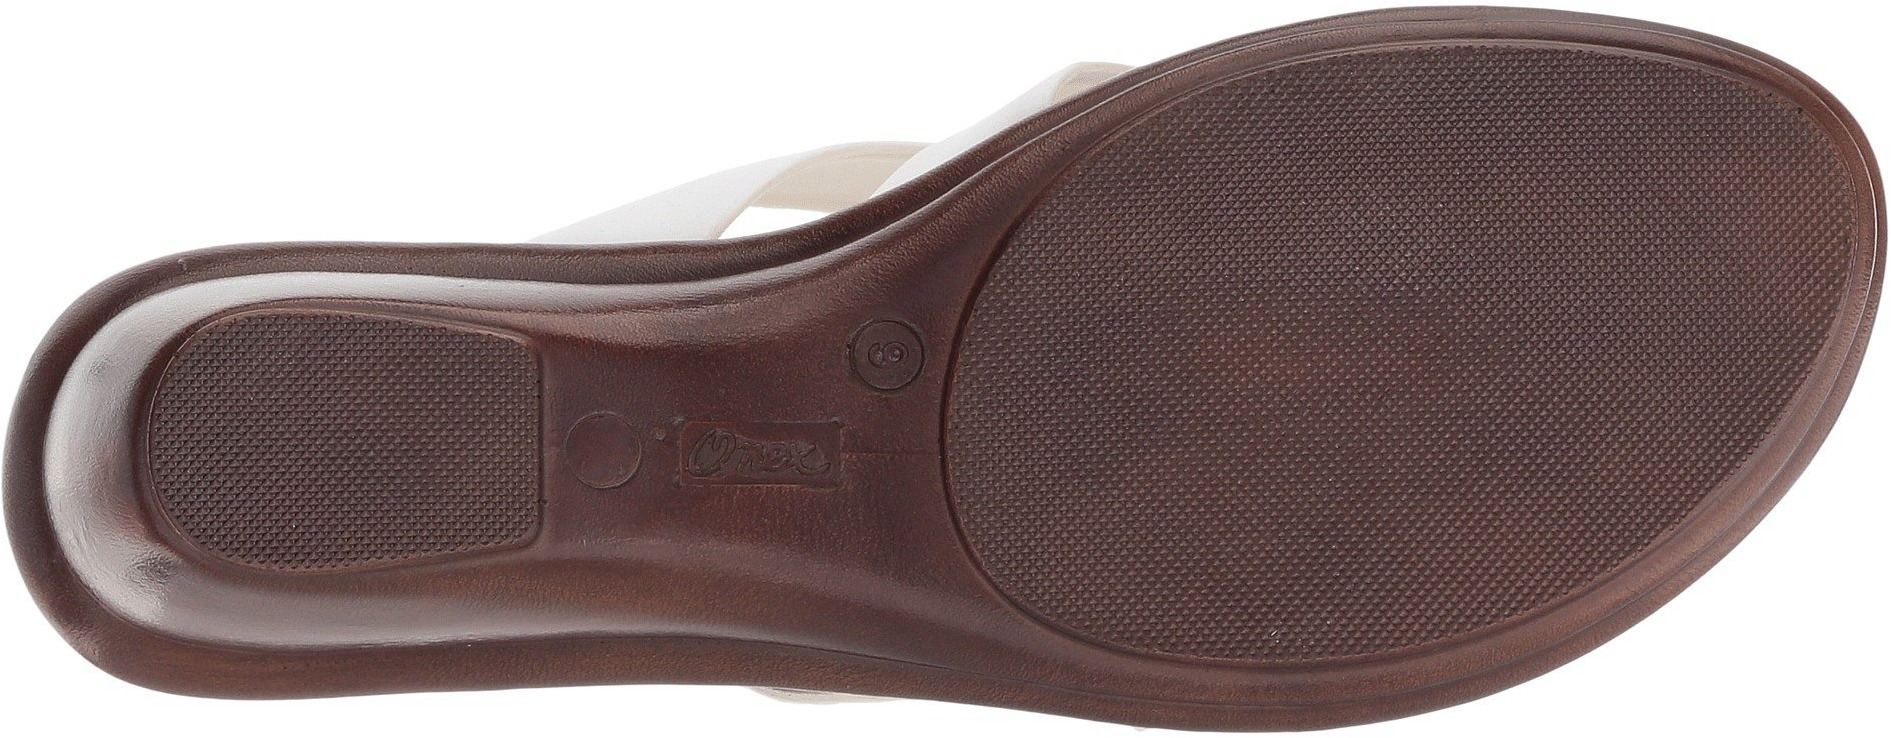circle: (550, 396, 654, 511), (837, 309, 935, 416)
other: (1521, 92, 1792, 387), (1014, 269, 1272, 541), (1282, 301, 1530, 541), (1278, 68, 1514, 293), (320, 368, 523, 547), (157, 361, 309, 543), (1135, 131, 1271, 265), (1538, 402, 1672, 528), (1218, 547, 1336, 654)
text: (837, 309, 935, 416), (731, 428, 792, 488)
